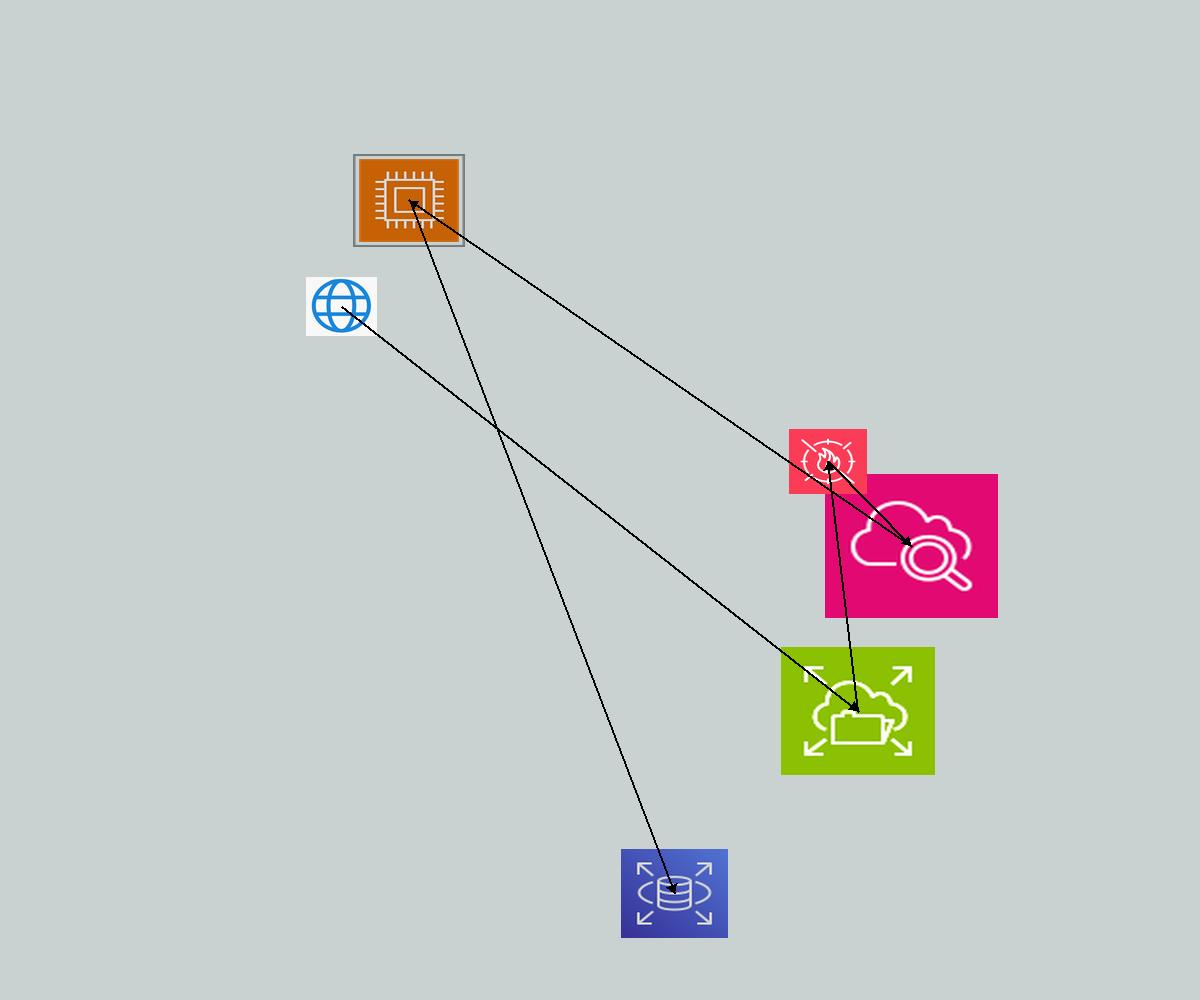AWS-Category_Compute: (353, 154, 465, 247)
AWS-CloudWatch: (825, 474, 998, 618)
AWS-EFS: (781, 647, 935, 775)
AWS-RDS: (621, 849, 728, 938)
AWS-WAF: (789, 429, 867, 494)
Azure_http: (306, 277, 377, 336)
